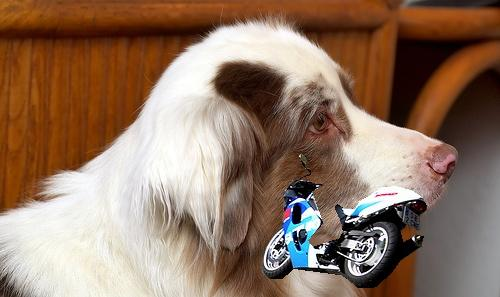tampered: (263, 154, 427, 288)
